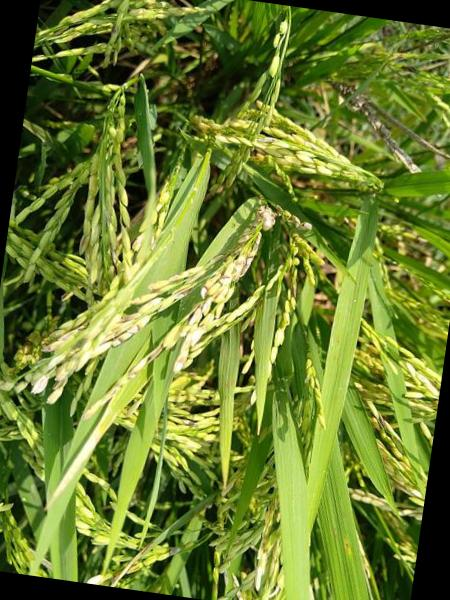Panicle Blight: (379, 441, 400, 456), (243, 248, 255, 273), (32, 376, 47, 393), (369, 365, 385, 380), (263, 204, 272, 228), (296, 220, 313, 232), (380, 417, 393, 432), (255, 566, 263, 589), (256, 136, 276, 144), (54, 377, 68, 388), (191, 329, 200, 345), (368, 344, 379, 355), (43, 343, 56, 352), (80, 238, 87, 253), (127, 564, 140, 572), (187, 314, 196, 325), (111, 338, 123, 346), (220, 276, 230, 285), (253, 150, 262, 158), (174, 361, 181, 371), (128, 373, 135, 379)
